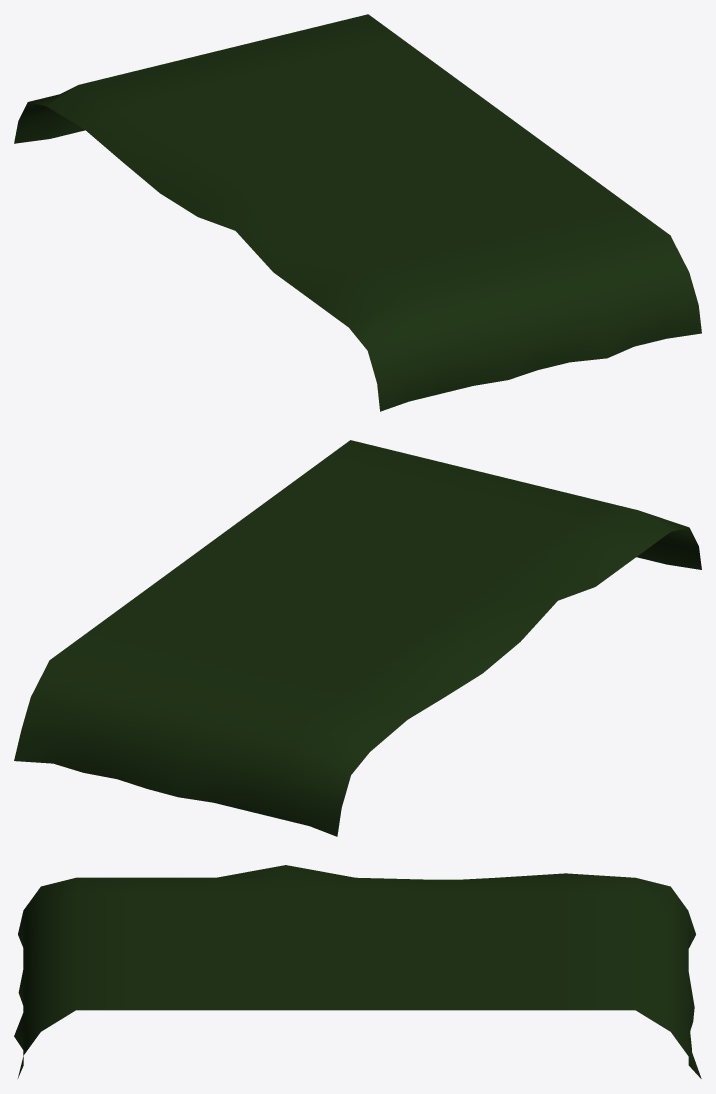
File: sheet.fbx
3 views of the same model, one above another, from view 1: azimuth 30°, elevation 25°; view 2: azimuth 150°, elevation 25°; view 3: azimuth 270°, elevation 25° (orthographic). The views are drawn at different scales.
Parts seen in each view (by area): view 1: Sheet_low; view 2: Sheet_low; view 3: Sheet_low.
Part boxes in pixels (left/top/right/bottom): Sheet_low: left=14, top=14, right=701, bottom=411; Sheet_low: left=14, top=440, right=701, bottom=836; Sheet_low: left=14, top=865, right=701, bottom=1078.
Size of the model in its own units: 32.46 by 7.23 by 64.89.
